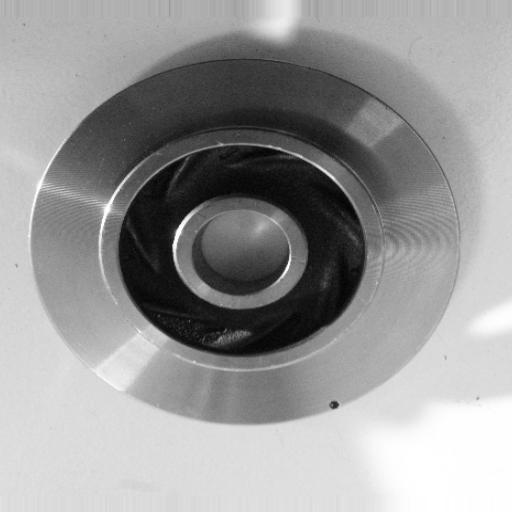pit: (323, 394, 347, 415)
unpolished_casting: (29, 56, 462, 431)
